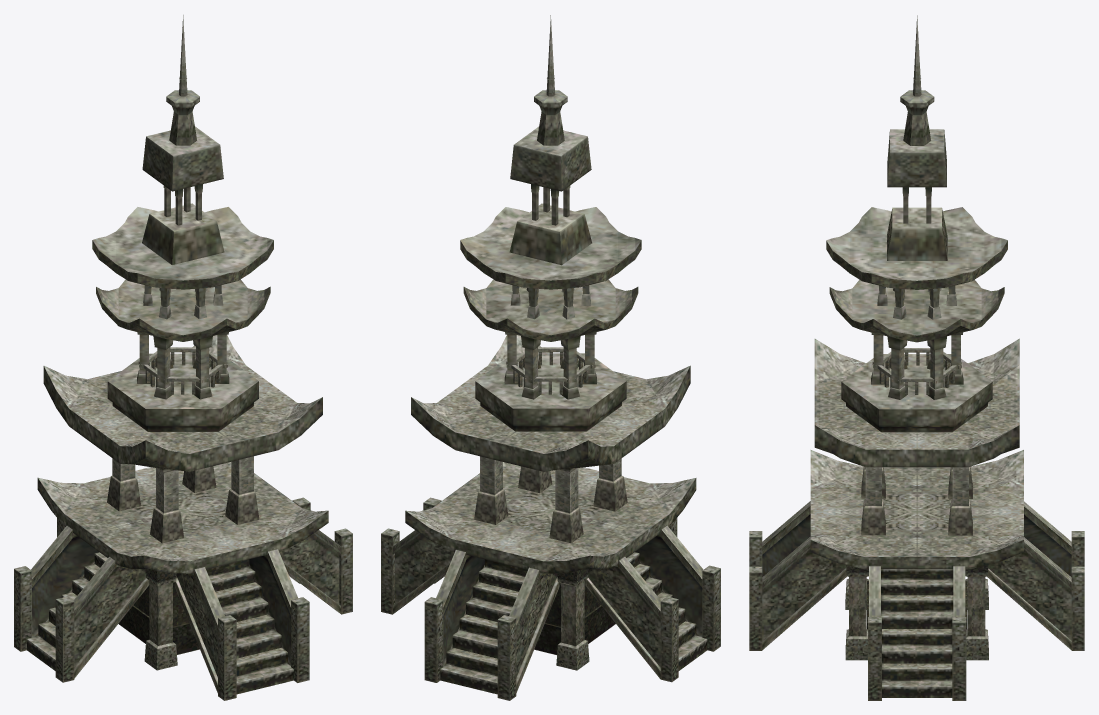
File: nsm-037-tower.fbx
The picture shows the model from 3 angles, left to right: view 1: azimuth 30°, elevation 25°; view 2: azimuth 150°, elevation 25°; view 3: azimuth 270°, elevation 25°; orthographic projection.
Visible parts, largest first — view 1: Object01; view 2: Object01; view 3: Object01.
Part boxes in pixels (x1,y1,x2,y2): Object01: [14, 15, 352, 700]; Object01: [381, 15, 720, 700]; Object01: [749, 15, 1084, 700].
Size of the model in its own units: 7.64 by 15.49 by 7.64.
